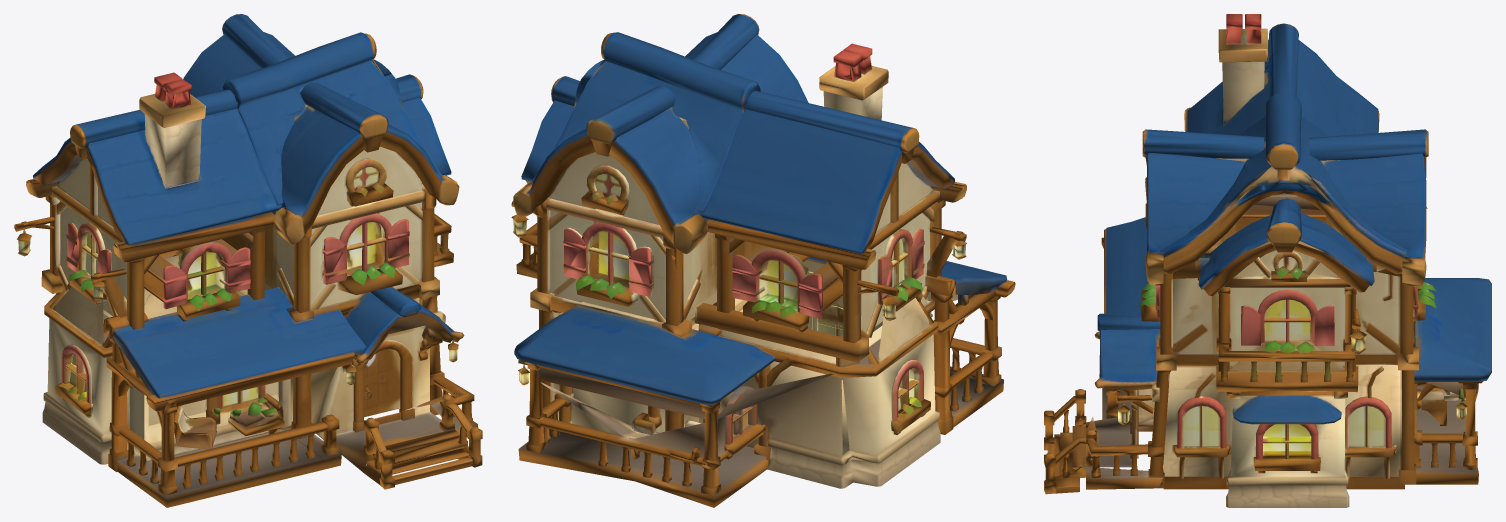
3 views of the same model, side by side, from view 1: azimuth 30°, elevation 25°; view 2: azimuth 150°, elevation 25°; view 3: azimuth 270°, elevation 25° (orthographic). The views are drawn at different scales.
Visible parts, largest first — view 1: house-tier4; view 2: house-tier4; view 3: house-tier4.
Part boxes in pixels (bbox=[...]): house-tier4: bbox=[14, 14, 482, 507]; house-tier4: bbox=[511, 14, 1015, 507]; house-tier4: bbox=[1044, 14, 1491, 507].
Size of the model in its own units: 7.25 by 6.83 by 7.45.
1 material, 1 textured.
